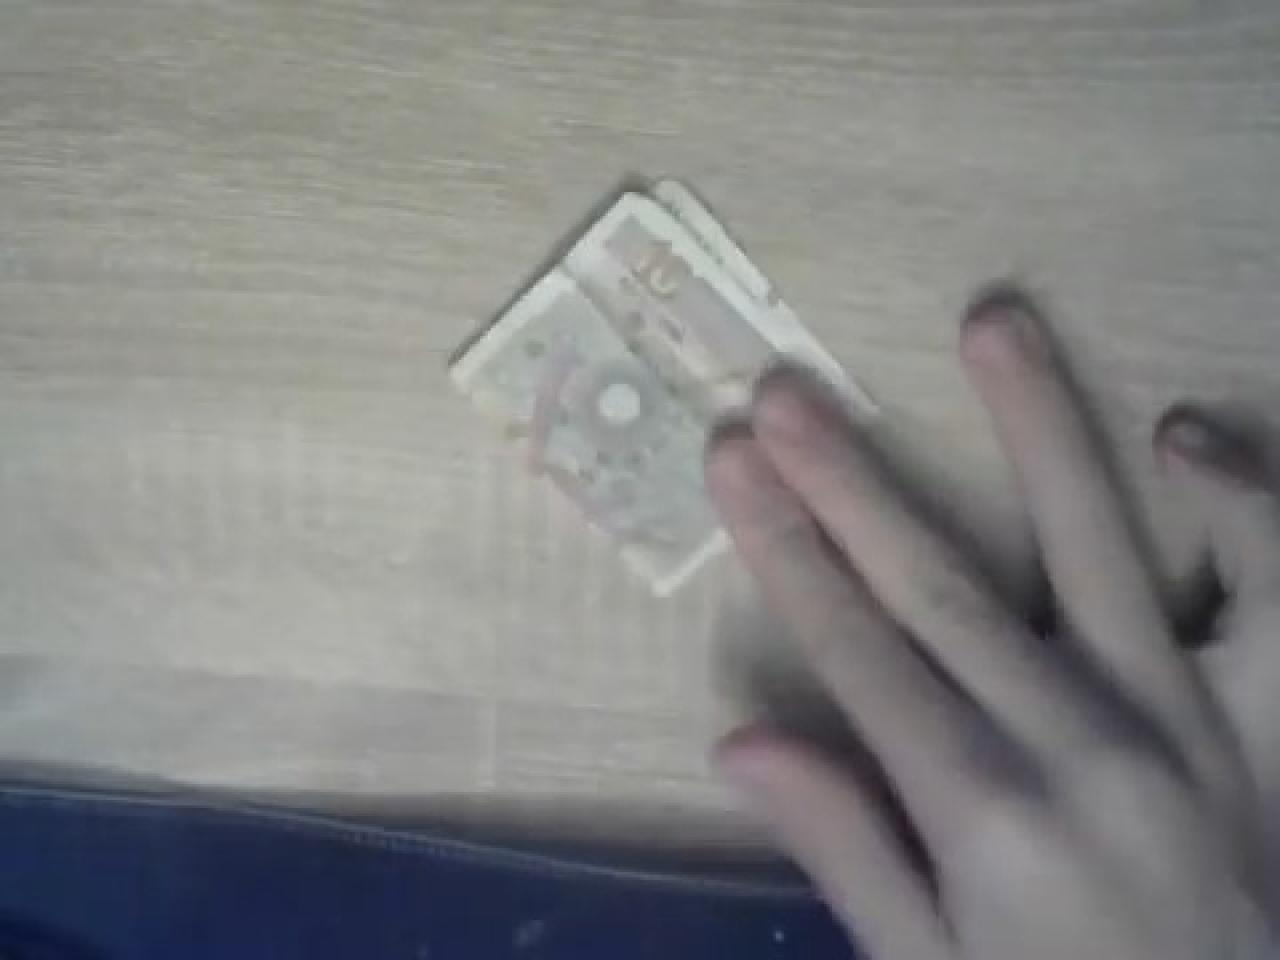10leva: (445, 179, 883, 603)
